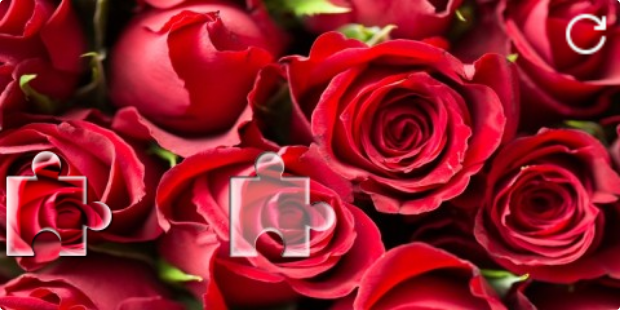target: (230, 151, 336, 256)
